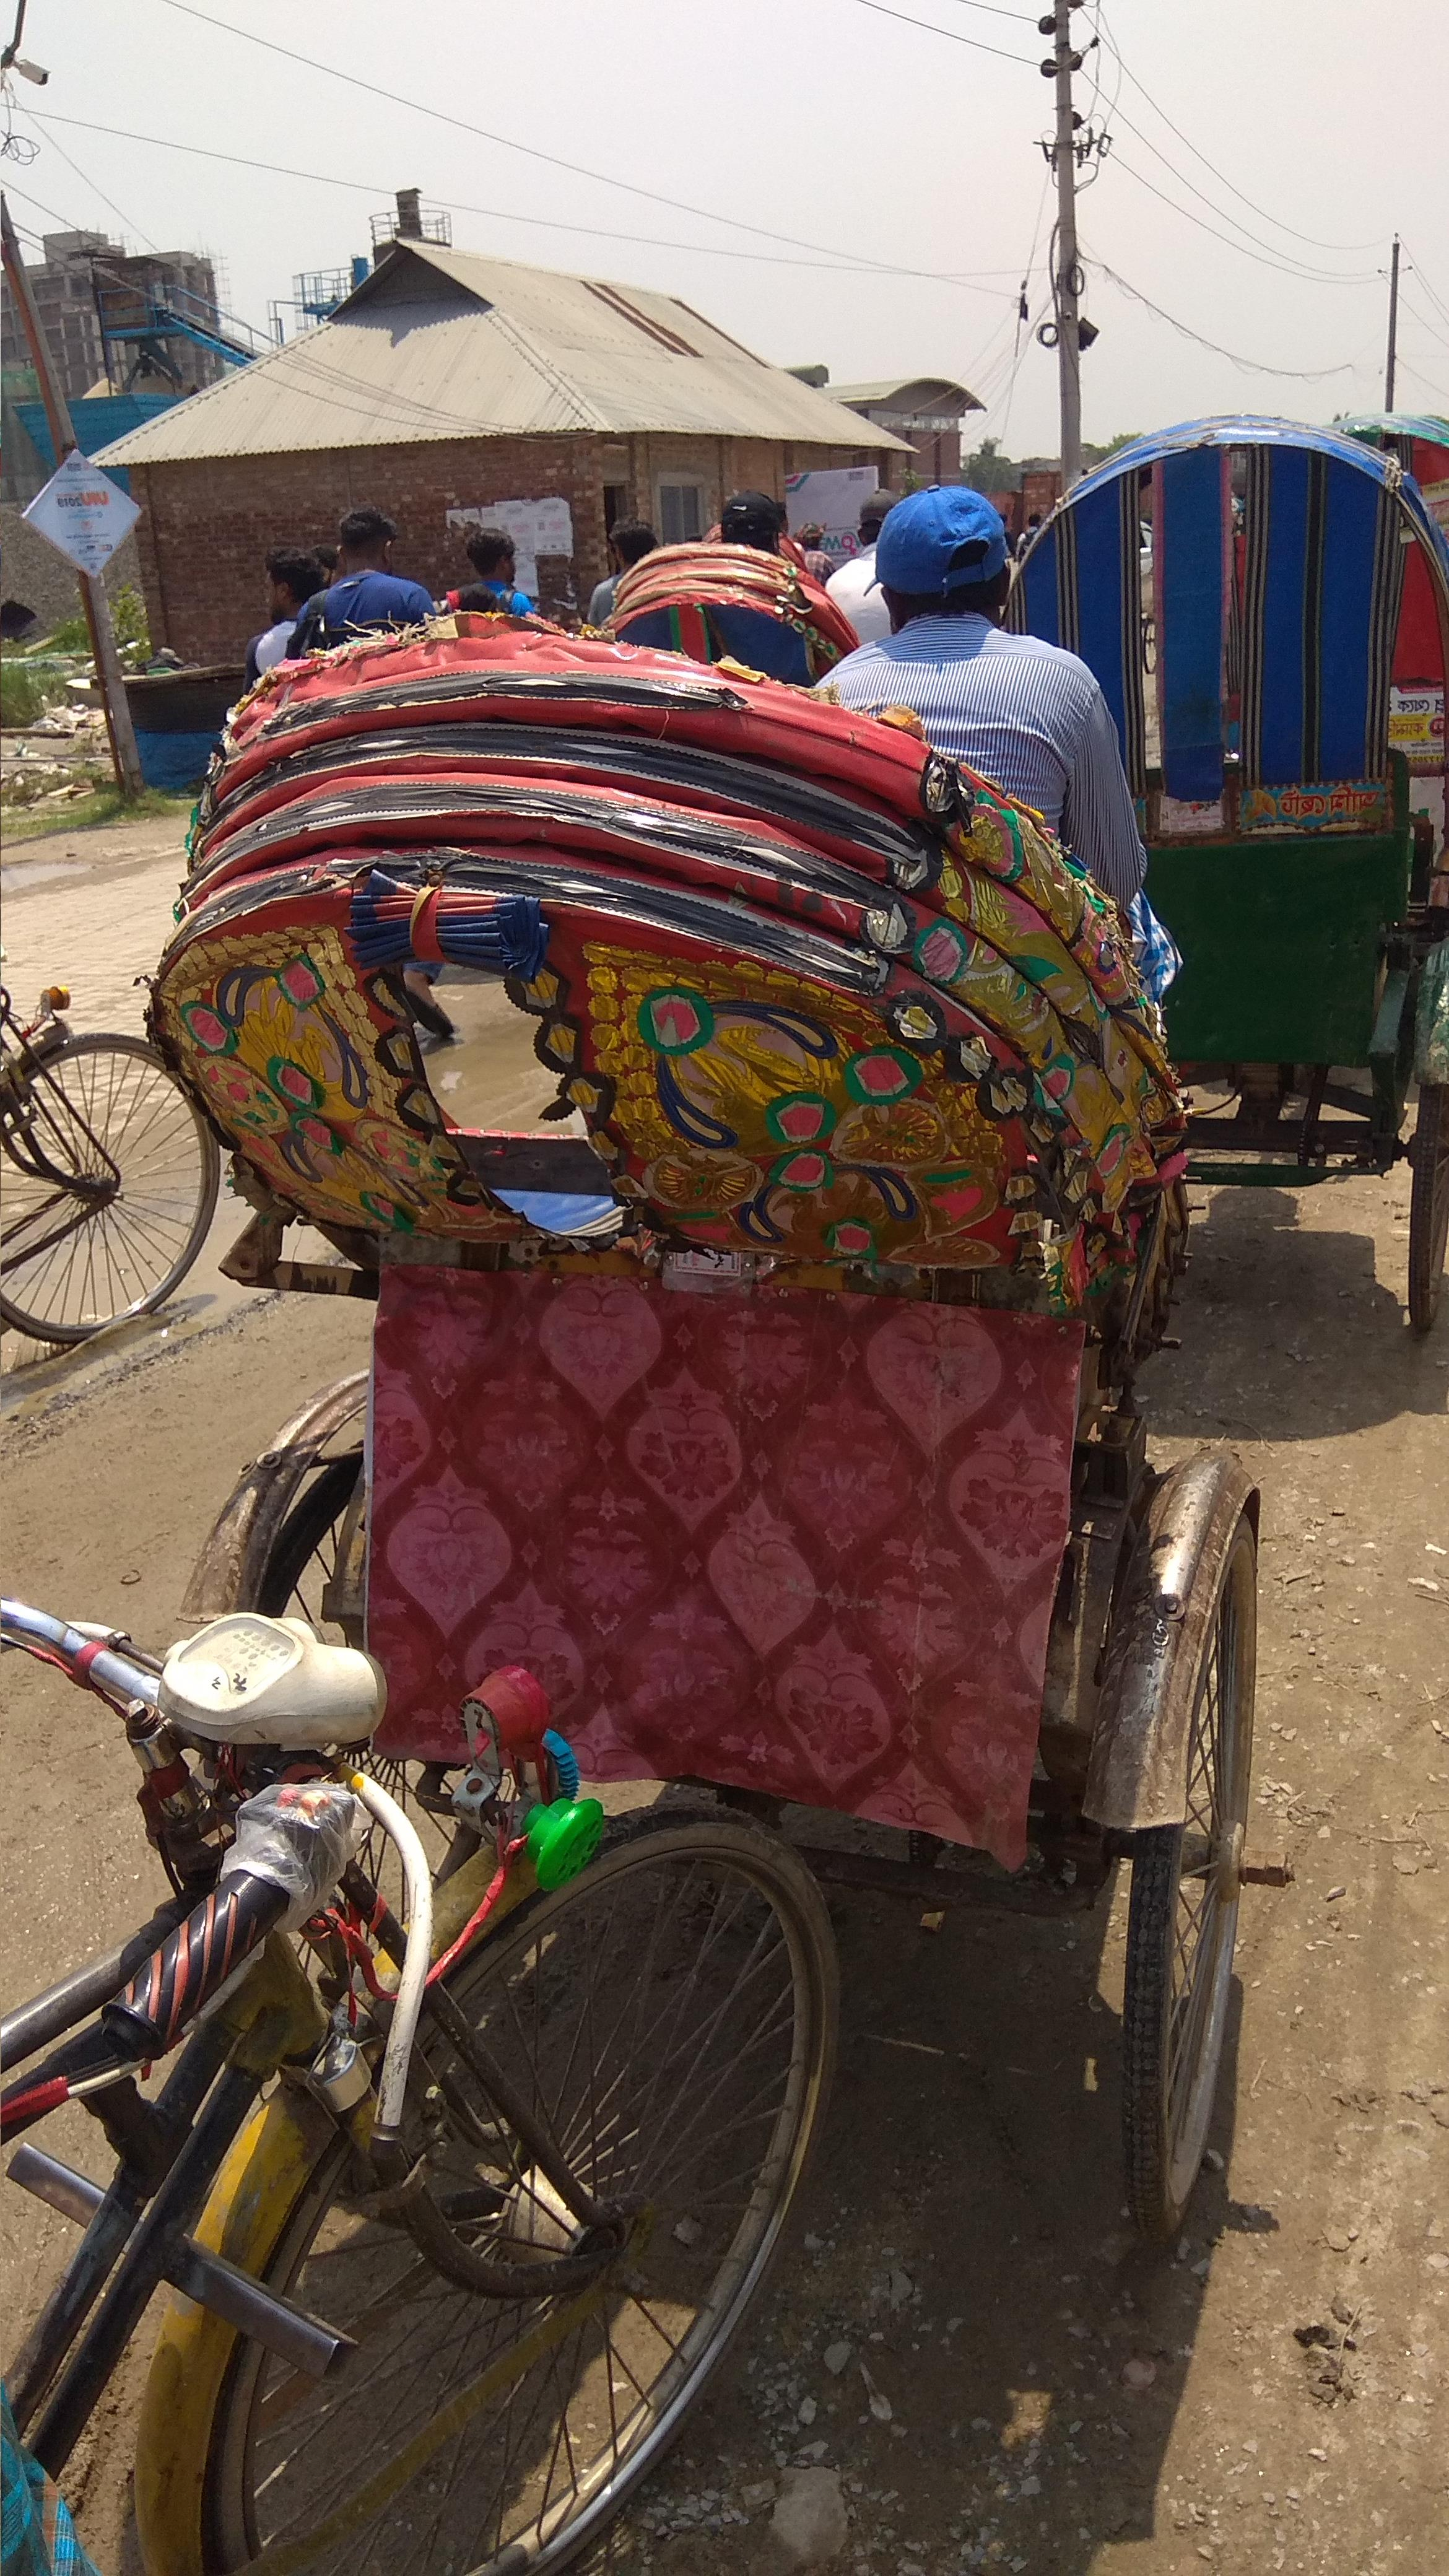Rickshaw: (152, 534, 1261, 2254), (1003, 395, 1444, 1338), (557, 511, 847, 725)
